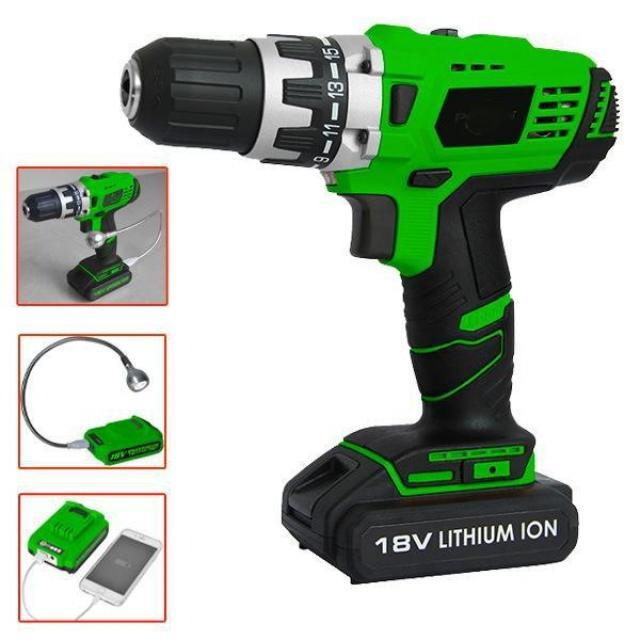drill: (120, 21, 622, 586), (20, 168, 140, 302)
